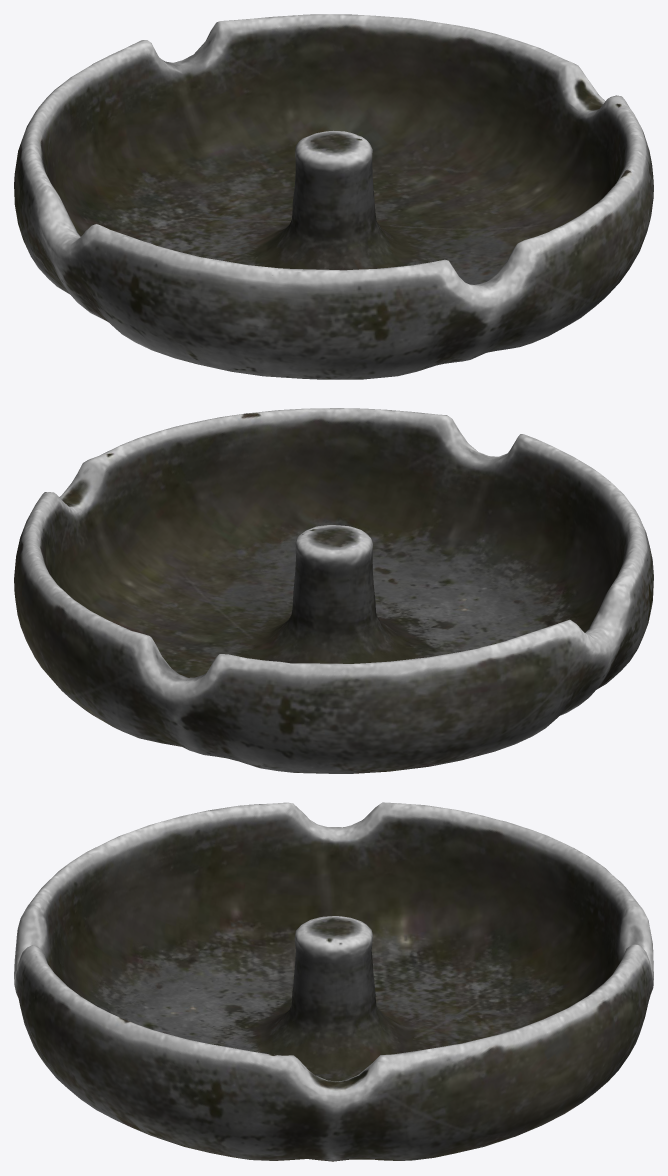
File: ashtray-02.glb
The picture shows the model from 3 angles, top to bottom: view 1: azimuth 30°, elevation 25°; view 2: azimuth 150°, elevation 25°; view 3: azimuth 270°, elevation 25°; orthographic projection.
Visible parts, largest first — view 1: Object_2; view 2: Object_2; view 3: Object_2.
Part boxes in pixels (x1,y1,x2,y2): Object_2: [14, 14, 653, 379]; Object_2: [14, 408, 653, 773]; Object_2: [14, 802, 653, 1161].
Size of the model in its own units: 159 by 40.99 by 158.
1 material, 1 textured.
